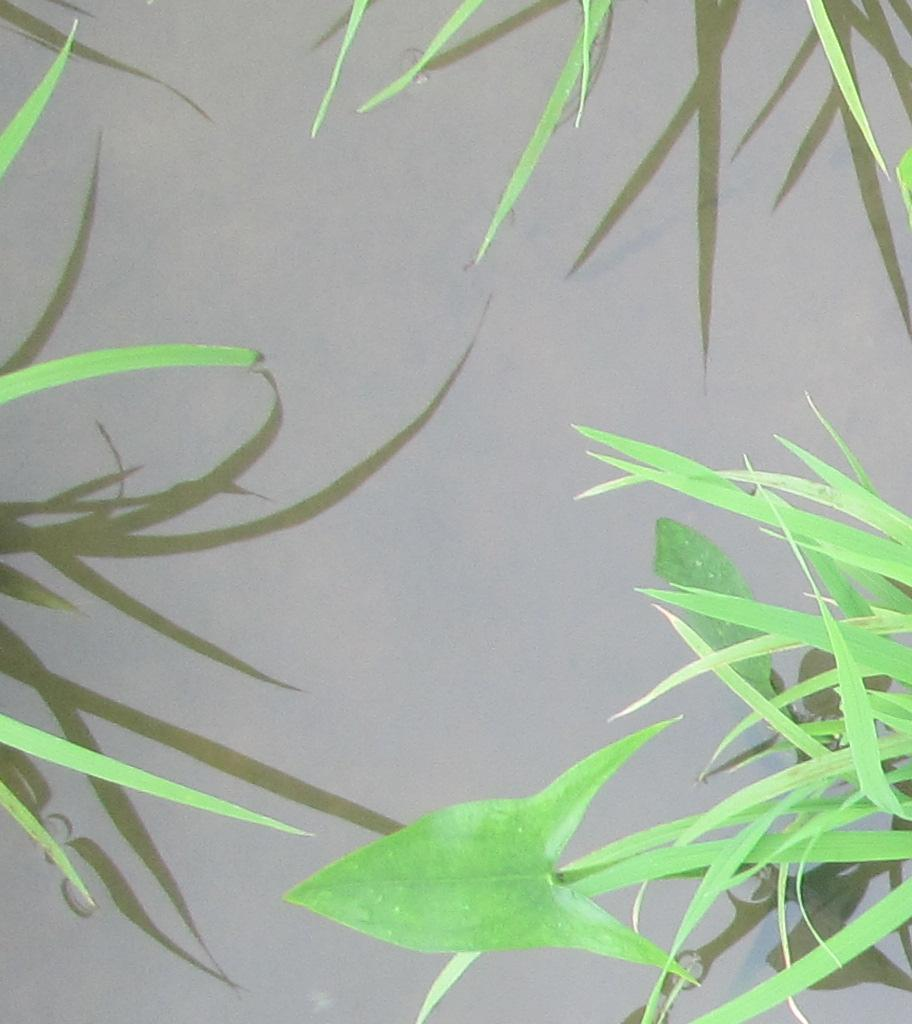Weed: (291, 794, 582, 952), (635, 514, 755, 589)
